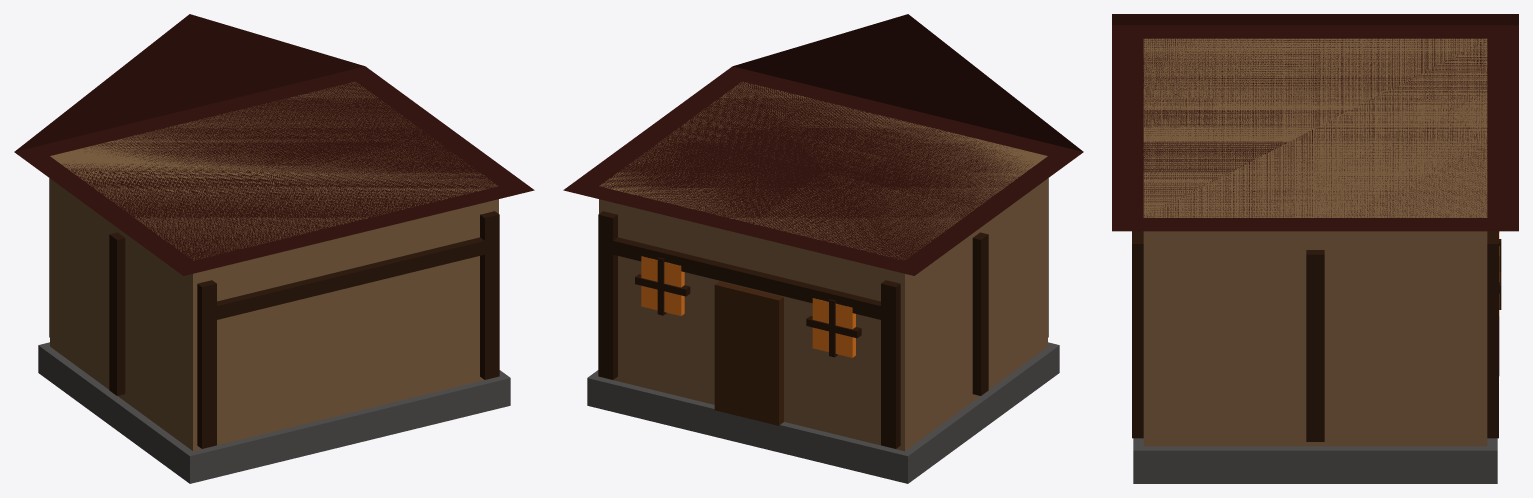
Rendered from House_C.obj.
3 views of the same model, side by side, from view 1: azimuth 30°, elevation 25°; view 2: azimuth 150°, elevation 25°; view 3: azimuth 270°, elevation 25° (orthographic). The views are drawn at different scales.
Parts seen in each view (by area): view 1: PlasterWalls, GabledRoof, StoneFoundation, TimberBeam_1.5, TimberPost_-1.7_1.5, TimberPost_1.7_1.5, SidePost_-1.9; view 2: GabledRoof, PlasterWalls, StoneFoundation, Door, TimberBeam_-1.5, TimberPost_-1.7_-1.5, TimberPost_1.7_-1.5, SidePost_-1.9, Window_R, Window_L; view 3: PlasterWalls, GabledRoof, StoneFoundation, SidePost_1.9, TimberPost_1.7_-1.5, TimberPost_1.7_1.5.
Part boxes in pixels (x1,y1,x2,y2): PlasterWalls: (50, 82, 498, 451); GabledRoof: (14, 14, 534, 275); StoneFoundation: (38, 342, 510, 483); TimberBeam_1.5: (210, 237, 484, 321); TimberPost_-1.7_1.5: (197, 280, 216, 448); TimberPost_1.7_1.5: (480, 211, 499, 379); SidePost_-1.9: (109, 232, 125, 395); GabledRoof: (563, 14, 1083, 275); PlasterWalls: (599, 82, 1047, 451); StoneFoundation: (587, 342, 1059, 483); Door: (714, 281, 783, 425); TimberBeam_-1.5: (606, 237, 887, 321); TimberPost_-1.7_-1.5: (881, 280, 900, 448); TimberPost_1.7_-1.5: (598, 211, 617, 379); SidePost_-1.9: (972, 232, 988, 395); Window_R: (641, 256, 684, 315); Window_L: (812, 298, 855, 357); PlasterWalls: (1143, 38, 1487, 446); GabledRoof: (1112, 14, 1518, 231); StoneFoundation: (1133, 438, 1497, 483); SidePost_1.9: (1306, 250, 1324, 441); TimberPost_1.7_-1.5: (1487, 235, 1498, 438); TimberPost_1.7_1.5: (1132, 235, 1143, 438).
Size of the model in its own units: 4.25 by 3.62 by 3.55.
